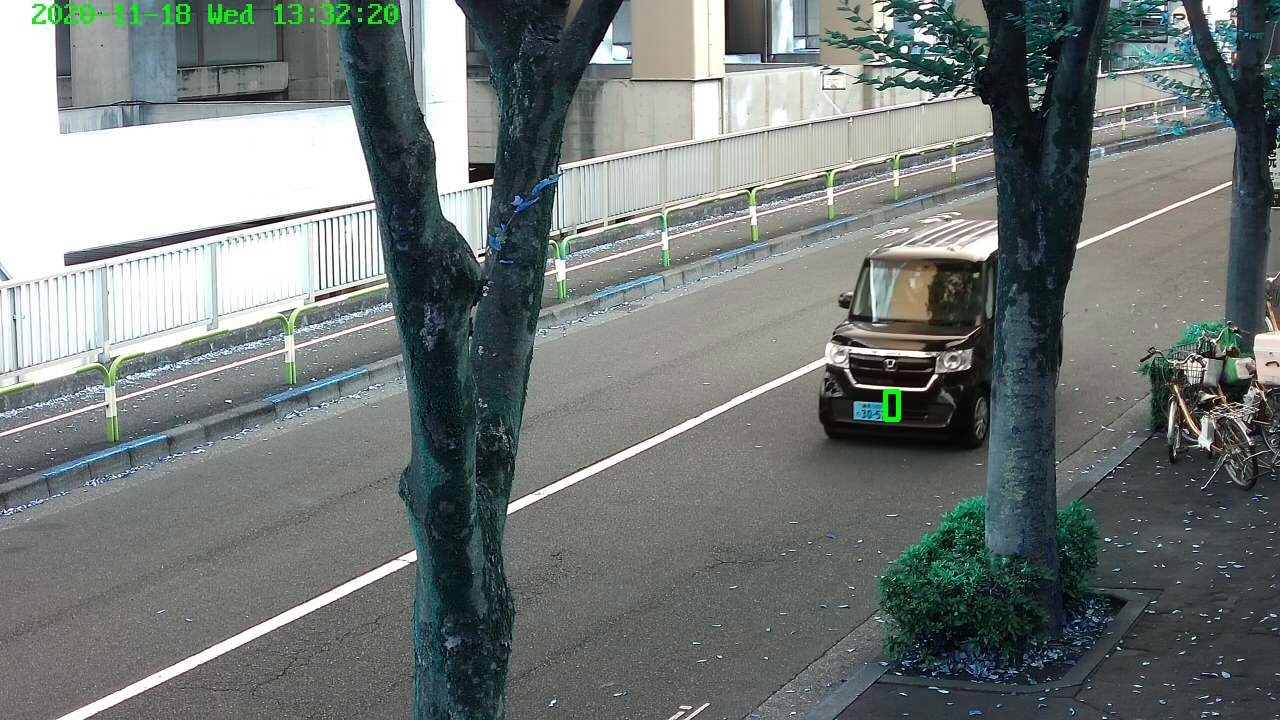number_plate: (850, 400, 889, 422)
